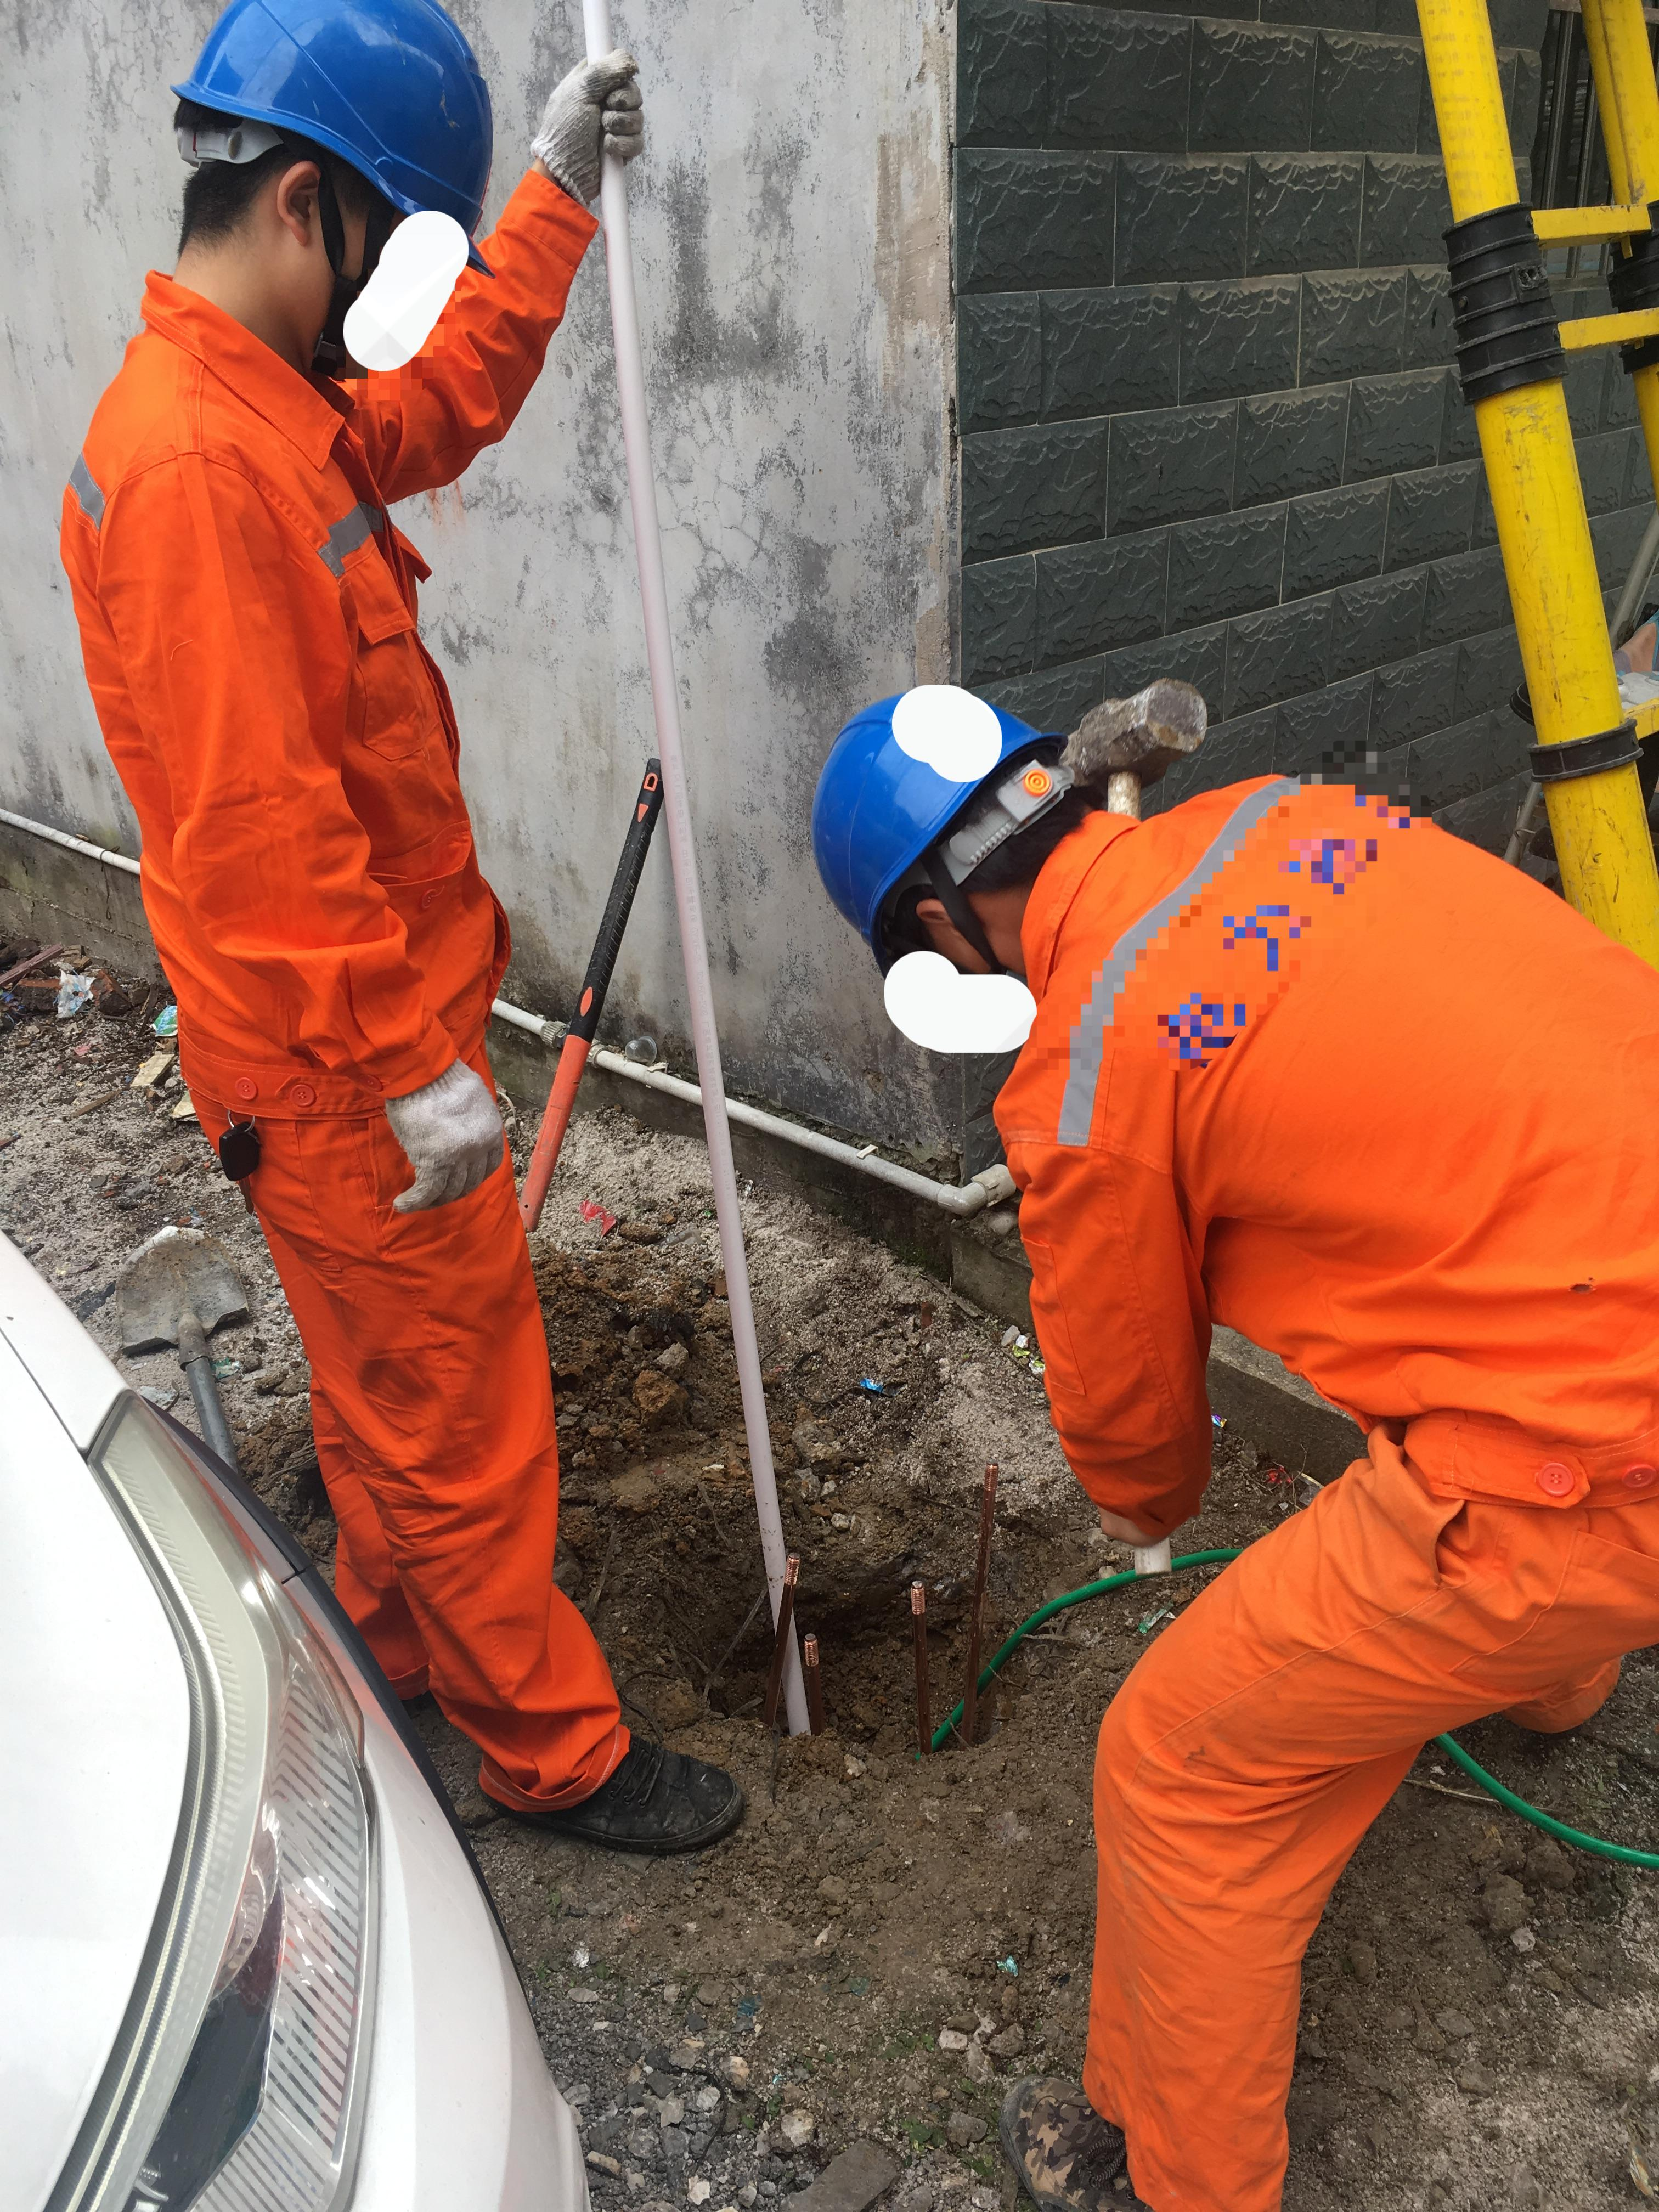halt: (153, 2, 507, 374), (807, 691, 1096, 1019)
inear: (899, 869, 1012, 986)
outear: (260, 150, 403, 366)
